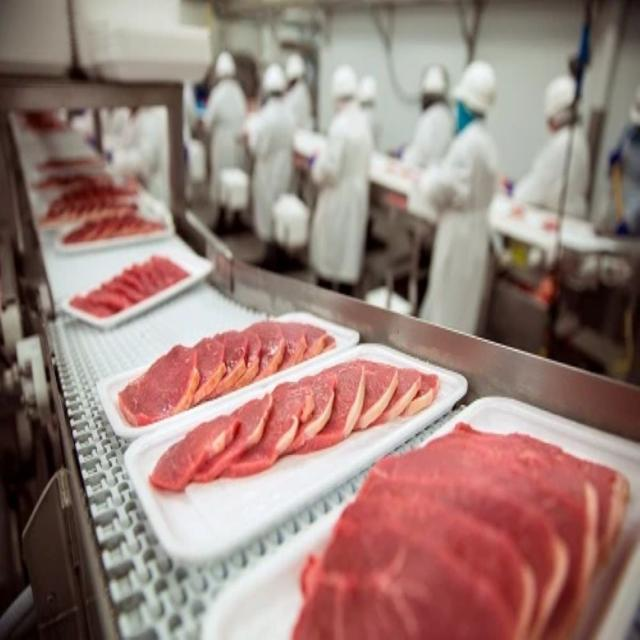food: (222, 357, 637, 640), (124, 337, 453, 520), (90, 306, 359, 433)
